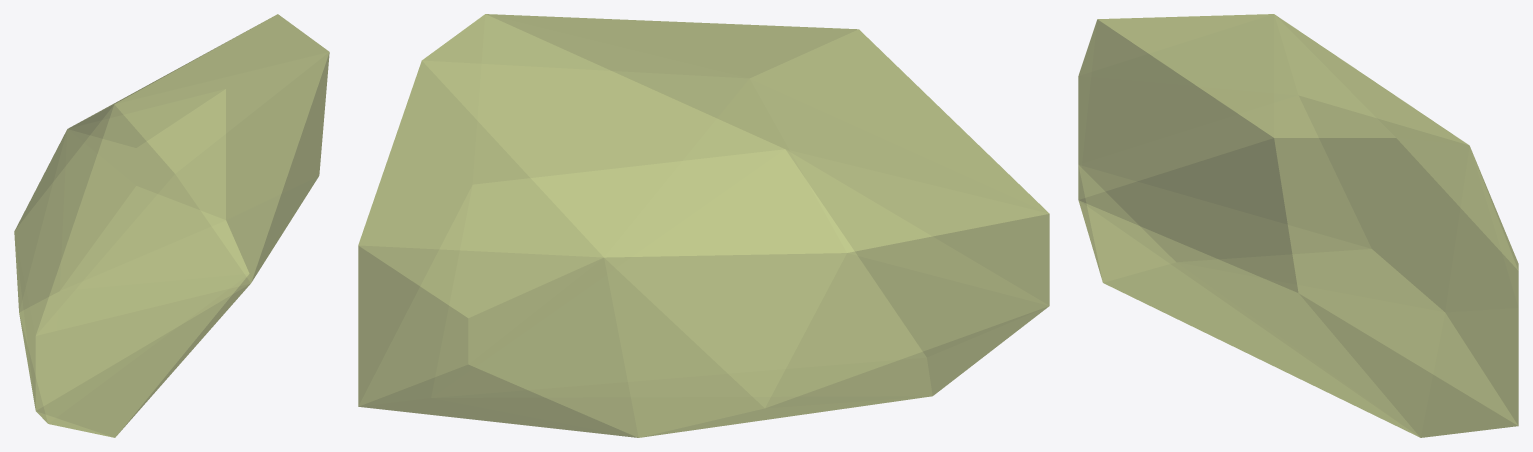
The picture shows the model from 3 angles, left to right: view 1: azimuth 30°, elevation 25°; view 2: azimuth 150°, elevation 25°; view 3: azimuth 270°, elevation 25°; orthographic projection. The views are drawn at different scales.
Parts seen in each view (by area): view 1: Shape_IndexedFaceSet.002_Shape_IndexedFaceSet.15615; view 2: Shape_IndexedFaceSet.002_Shape_IndexedFaceSet.15615; view 3: Shape_IndexedFaceSet.002_Shape_IndexedFaceSet.15615.
Part boxes in pixels (x1,y1,x2,y2): Shape_IndexedFaceSet.002_Shape_IndexedFaceSet.15615: [14, 14, 329, 437]; Shape_IndexedFaceSet.002_Shape_IndexedFaceSet.15615: [358, 14, 1049, 437]; Shape_IndexedFaceSet.002_Shape_IndexedFaceSet.15615: [1078, 14, 1518, 437].
Bounding box in the file's own units: 0.19 × 0.1266 × 0.1628.
